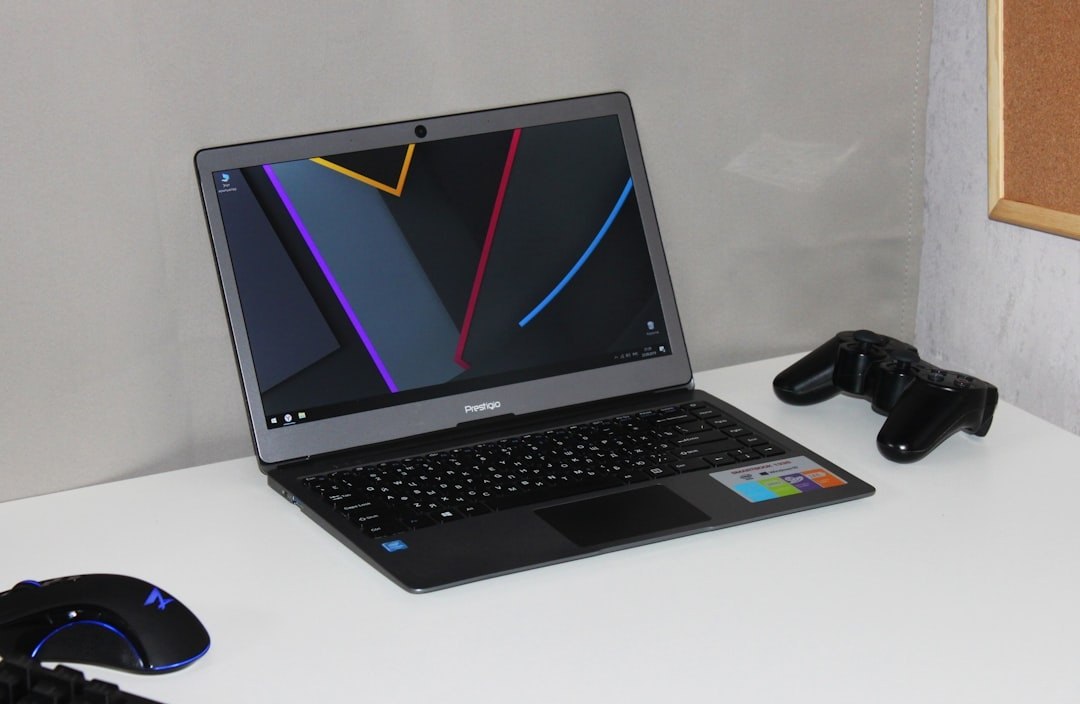laptop: (176, 82, 885, 600)
